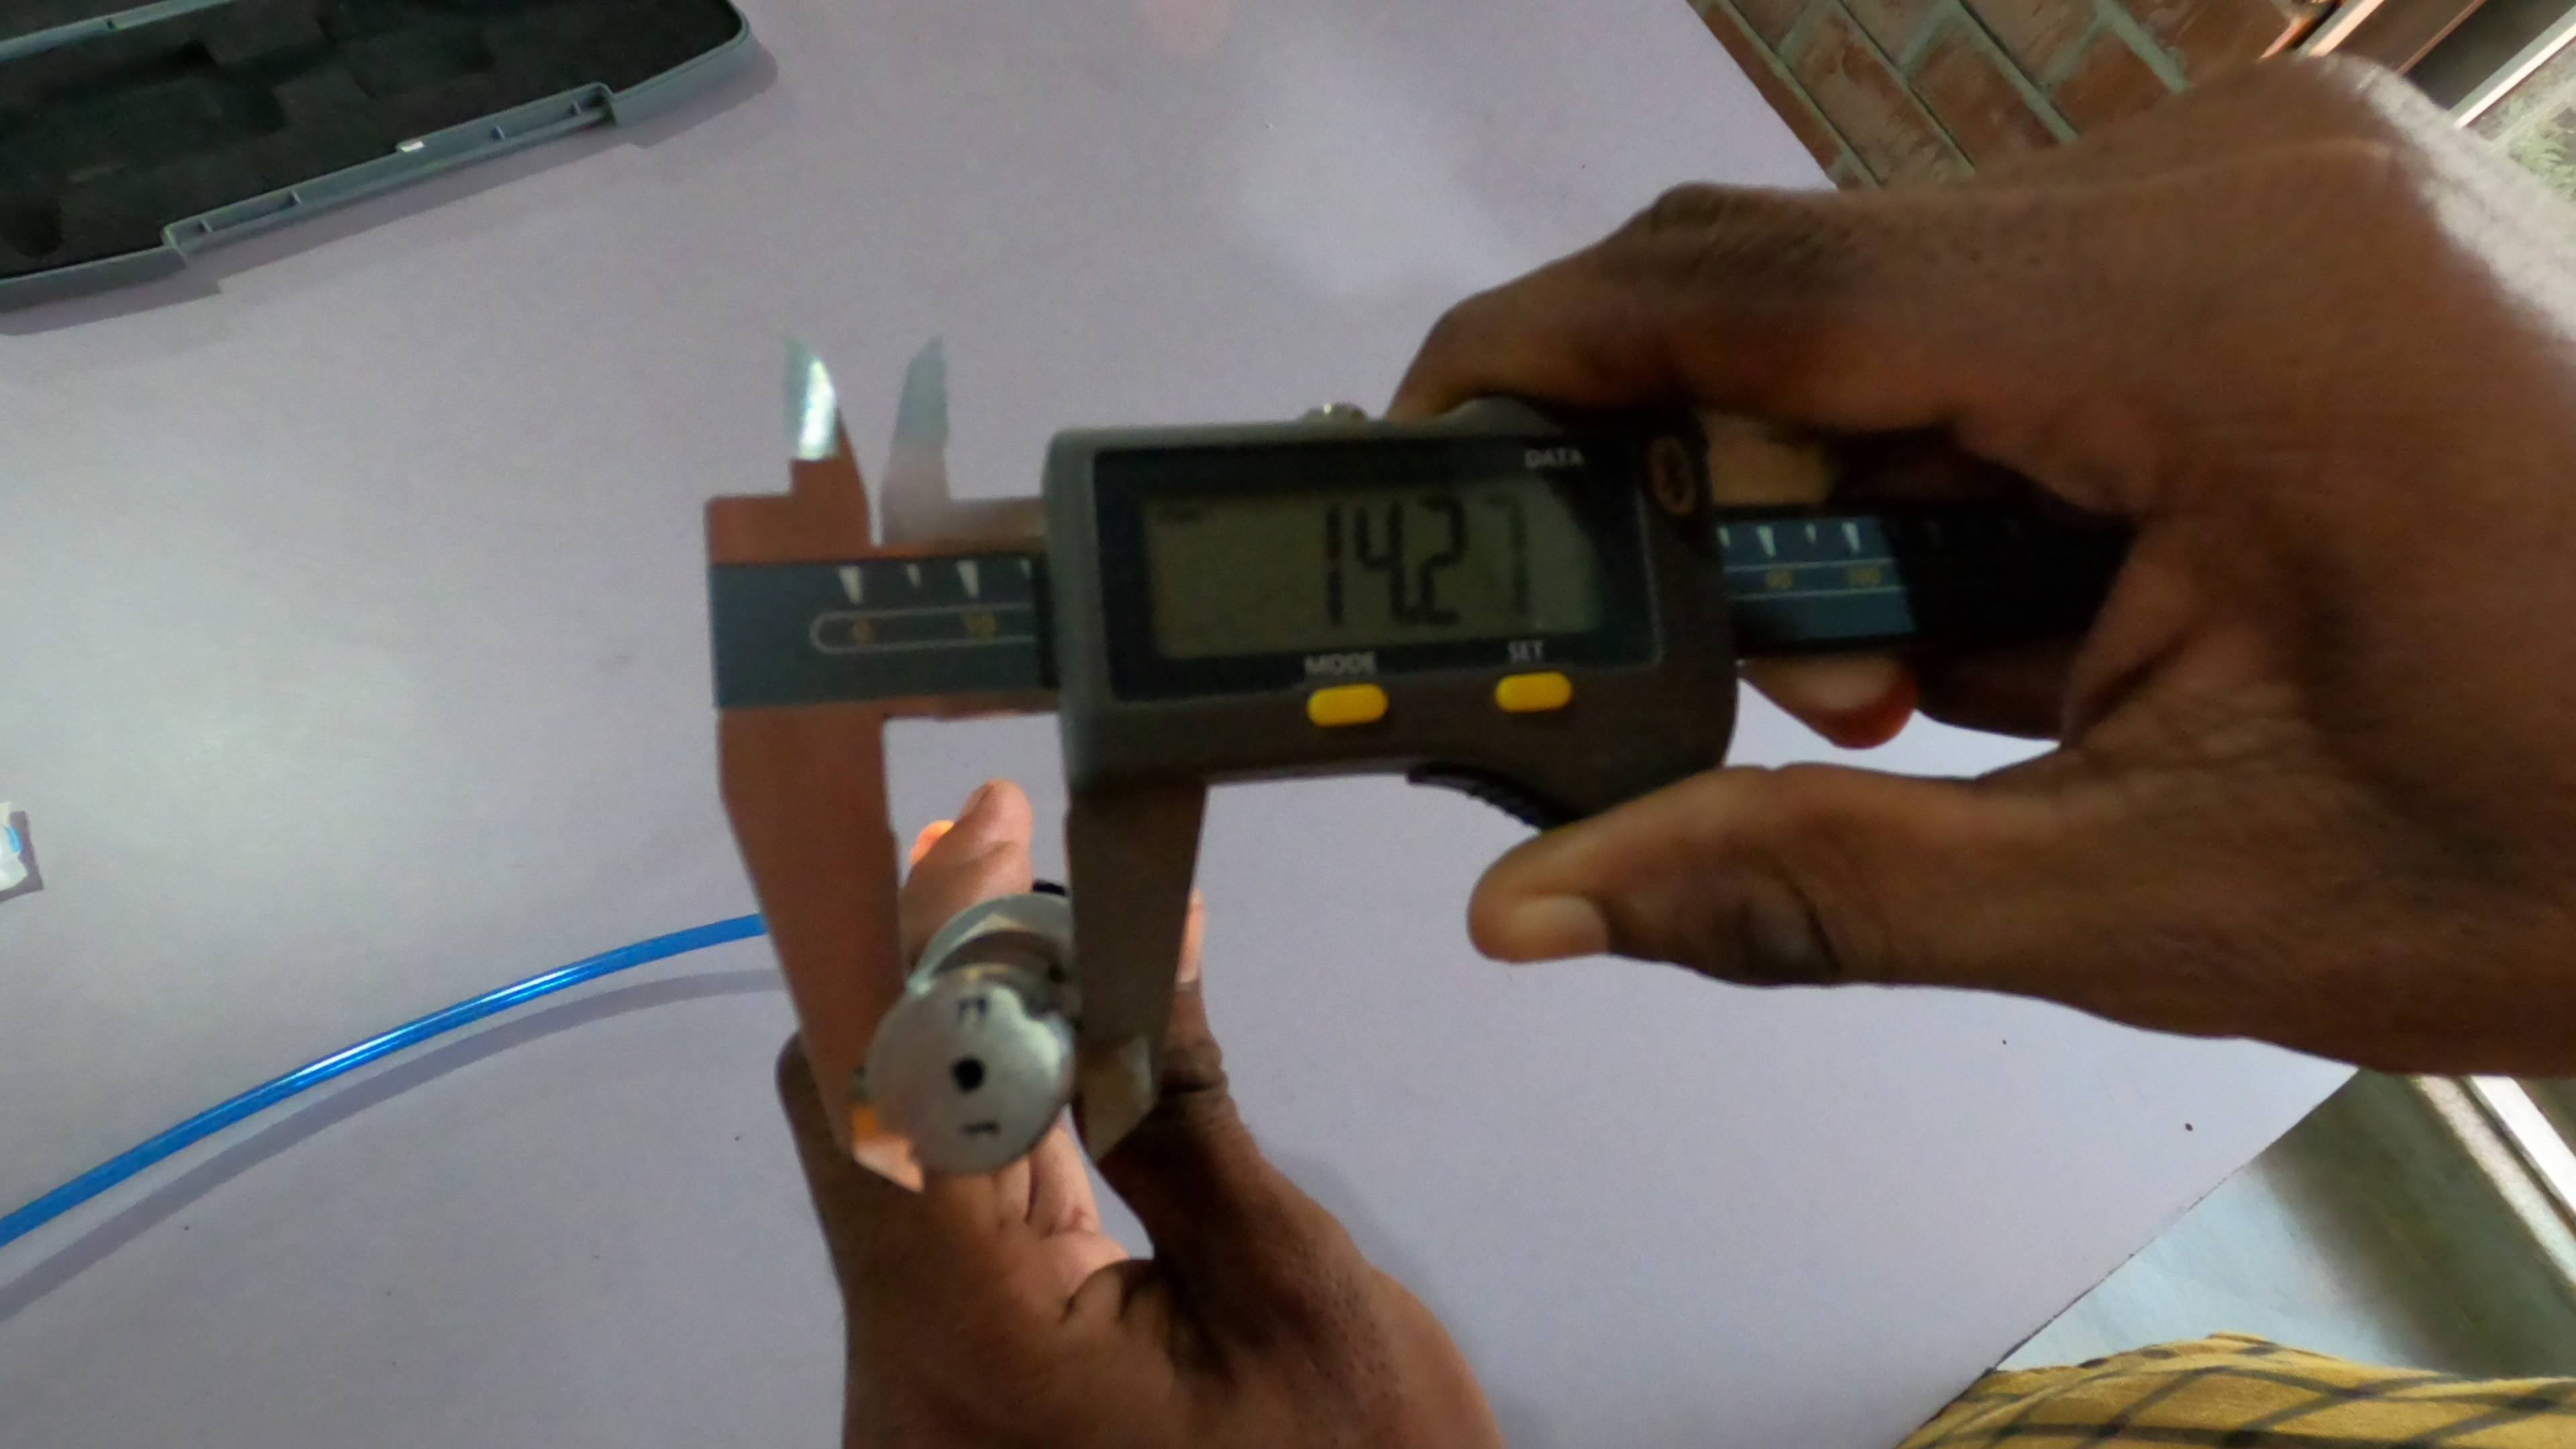vernier_caliper: (702, 327, 2104, 1198)
